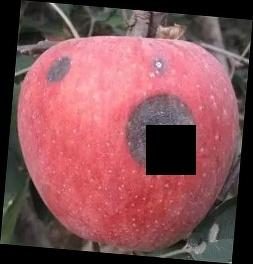rotten apple: (15, 39, 235, 249)
